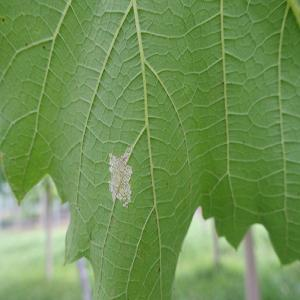Folha: (0, 0, 299, 298)
Fungo: (107, 144, 133, 209)
